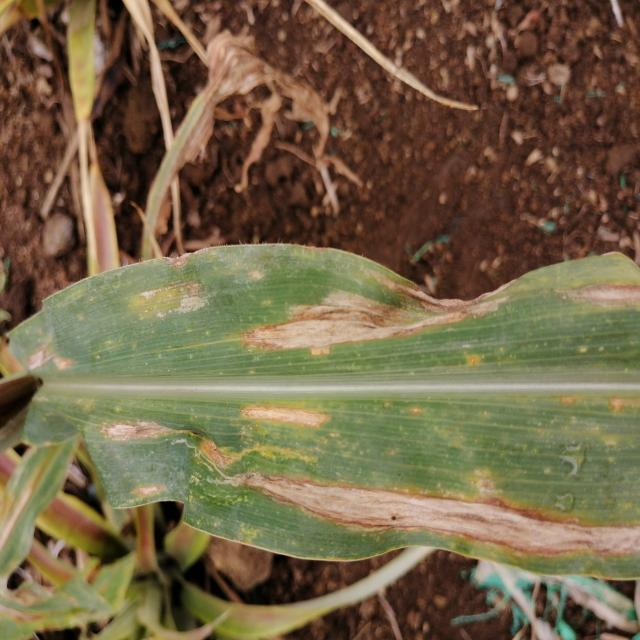Corn_Leaf_Blight: (23, 244, 640, 590)
